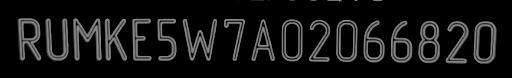letter: (180, 16, 218, 62), (12, 16, 44, 62), (70, 16, 102, 62), (443, 18, 469, 66), (334, 18, 360, 64), (416, 18, 442, 64), (472, 20, 498, 66), (250, 16, 276, 60), (44, 16, 70, 60), (103, 17, 129, 61), (155, 17, 181, 61), (278, 17, 304, 61), (306, 17, 332, 61), (360, 19, 386, 63), (388, 19, 414, 63), (222, 16, 246, 62), (130, 17, 152, 61)
